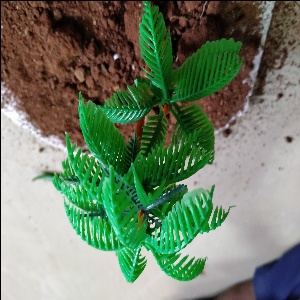plant: (56, 10, 236, 279)
